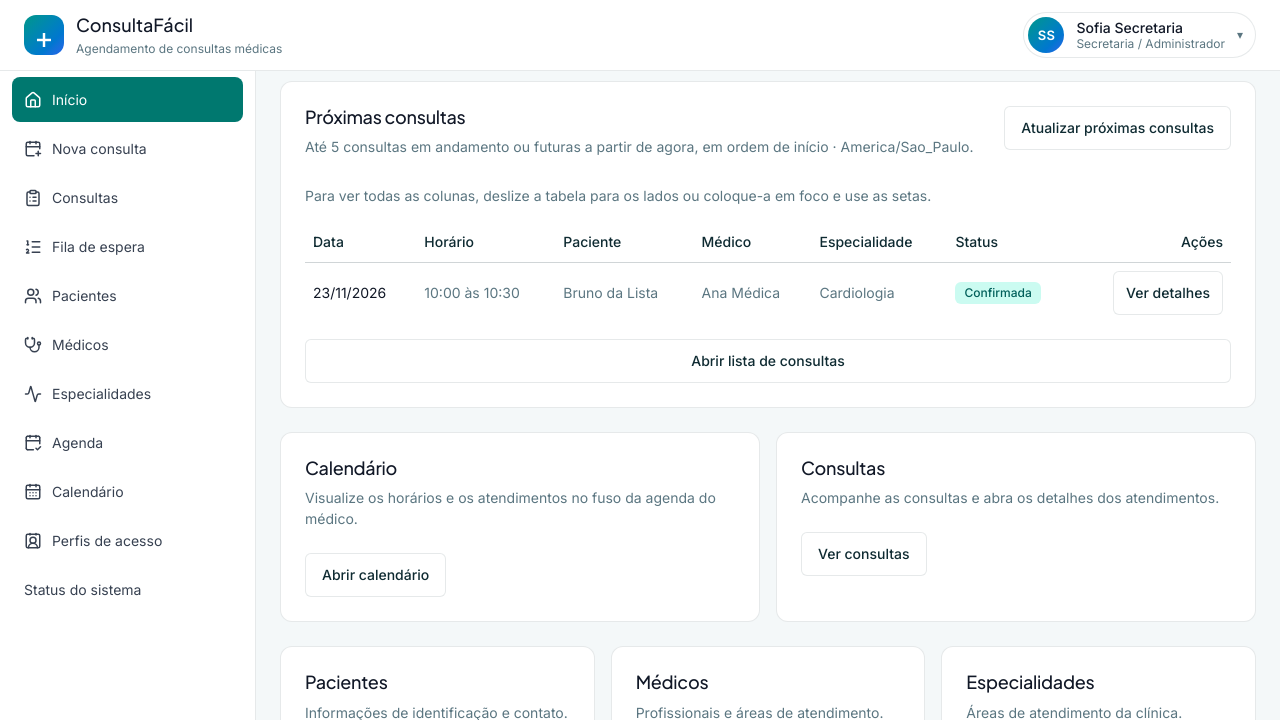
Scenario: lista recebe o médico e mantém o retorno ao painel ao filtrar e abrir detalhes
(page scrolled)
Expected: the text "Bruno da Lista" is shown, top-left (555, 263), bottom-right (694, 323)
Click the link "Abrir lista de consultas".
click(768, 361)  # box top-left (305, 339), bottom-right (1231, 383)
(page scrolled)
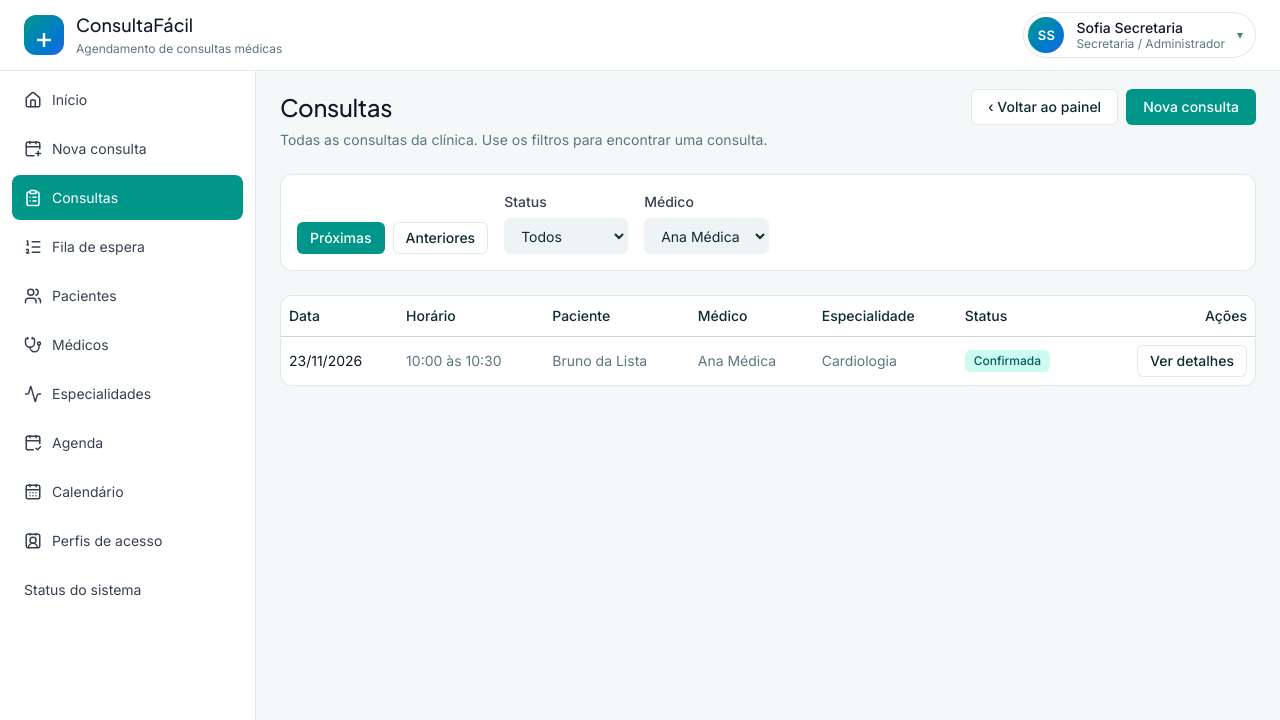
Select "Confirmada" in the dropdown labelled "Status" at (566,236), box top-left (504, 218), bottom-right (628, 254)
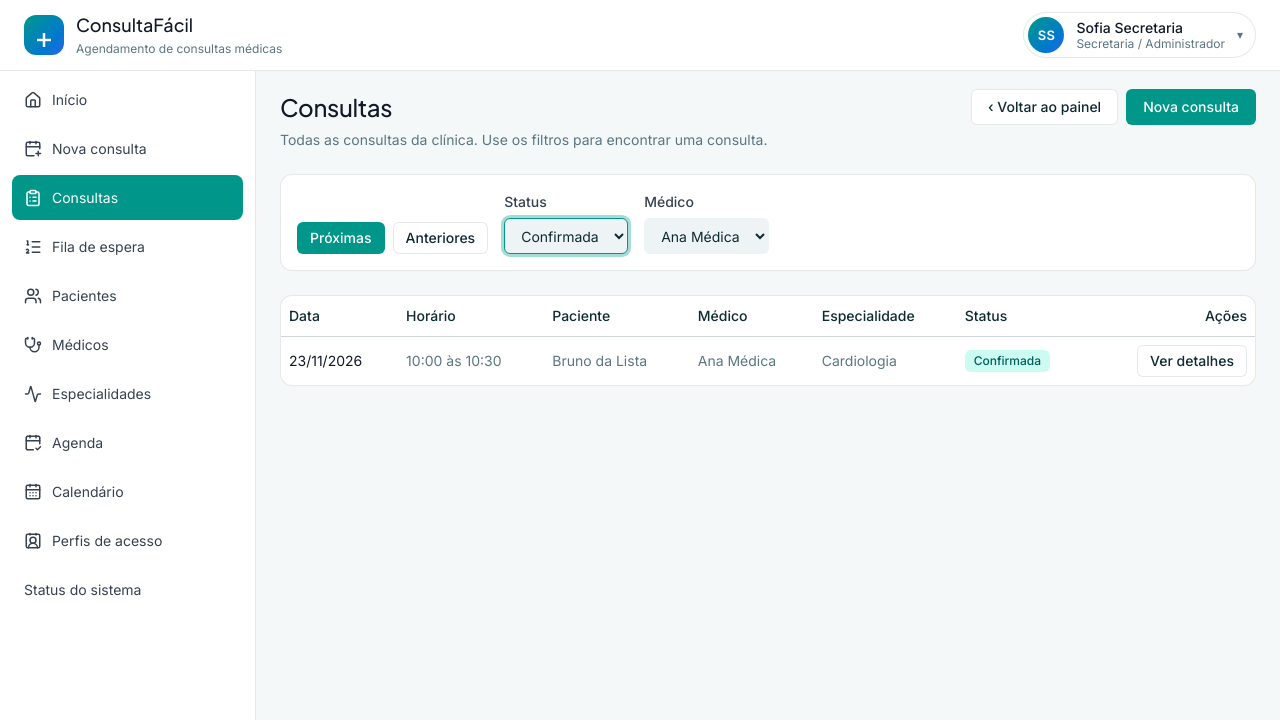
Click the link with aria-label "Ver detalhes da consulta".
click(1192, 360)  # box top-left (1137, 344), bottom-right (1247, 376)
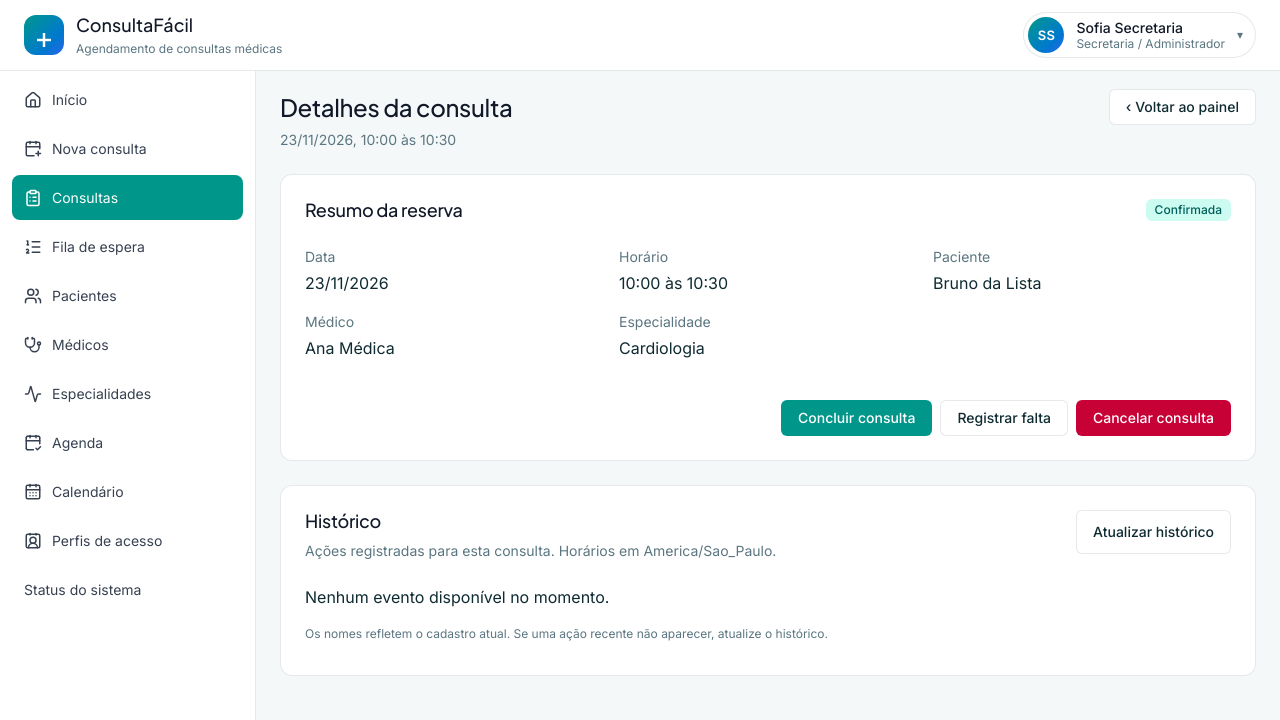
Expected: the link "‹ Voltar ao painel" is shown
Click the link "‹ Voltar ao painel".
click(1182, 107)  # box top-left (1109, 89), bottom-right (1256, 125)
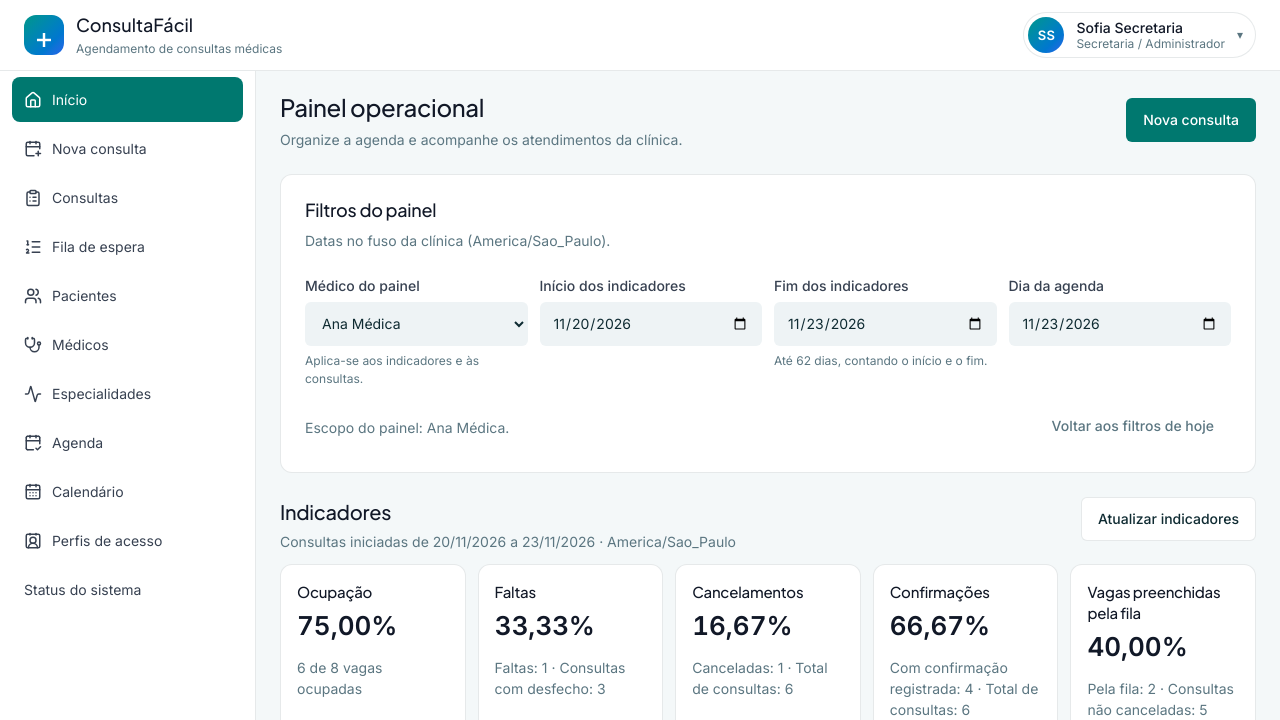
Expected: the dropdown labelled "Médico do painel" shows "Ana Médica", top-left (305, 302), bottom-right (528, 346)
Expected: the date field labelled "Início dos indicadores" holds "2026-11-20", top-left (540, 302), bottom-right (762, 346)
Expected: the date field labelled "Fim dos indicadores" holds "2026-11-23", top-left (774, 302), bottom-right (996, 346)
